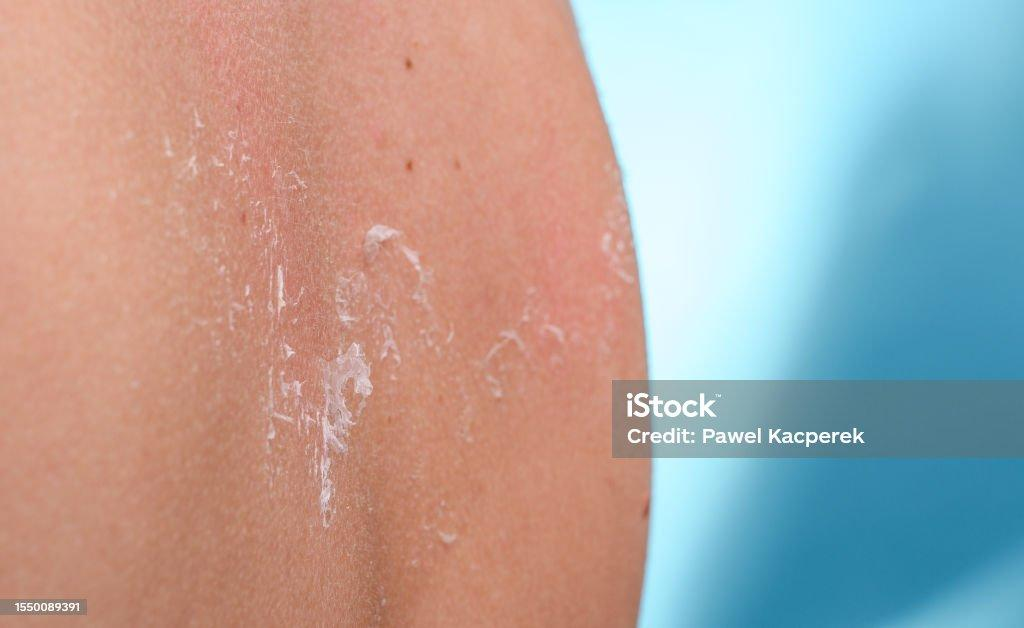Dry-Skin: (143, 287, 587, 548), (370, 45, 633, 285), (313, 247, 557, 453), (65, 232, 333, 390), (572, 270, 722, 485), (135, 25, 313, 168)
